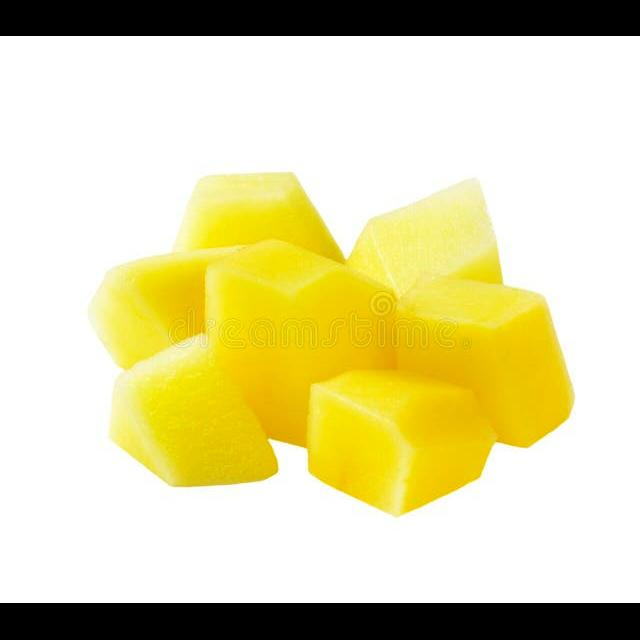potato: (109, 167, 557, 498)
